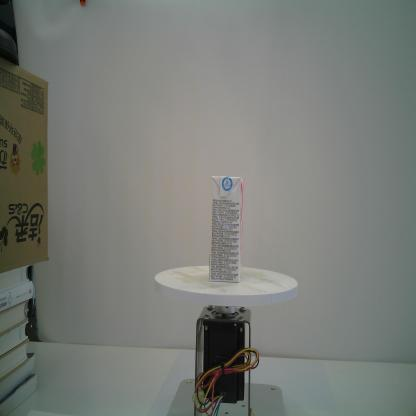Milk: (209, 175, 244, 283)
